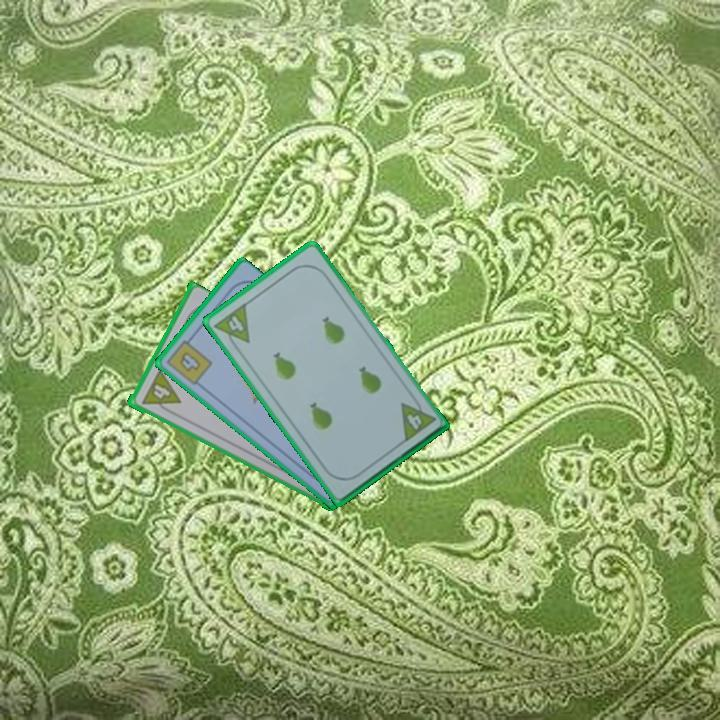4b: (163, 332, 215, 389)
4p: (138, 366, 183, 418), (210, 299, 253, 353), (397, 392, 438, 445)
